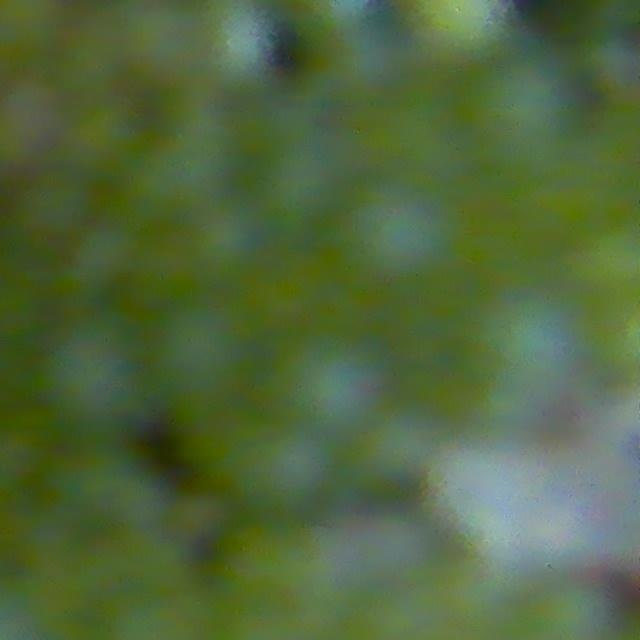SeaGrape: (466, 51, 582, 177), (338, 176, 458, 289), (37, 313, 150, 432), (276, 324, 388, 437), (247, 423, 336, 510), (353, 405, 438, 492), (186, 196, 269, 285), (194, 0, 278, 87), (357, 508, 432, 585), (537, 578, 614, 640)
